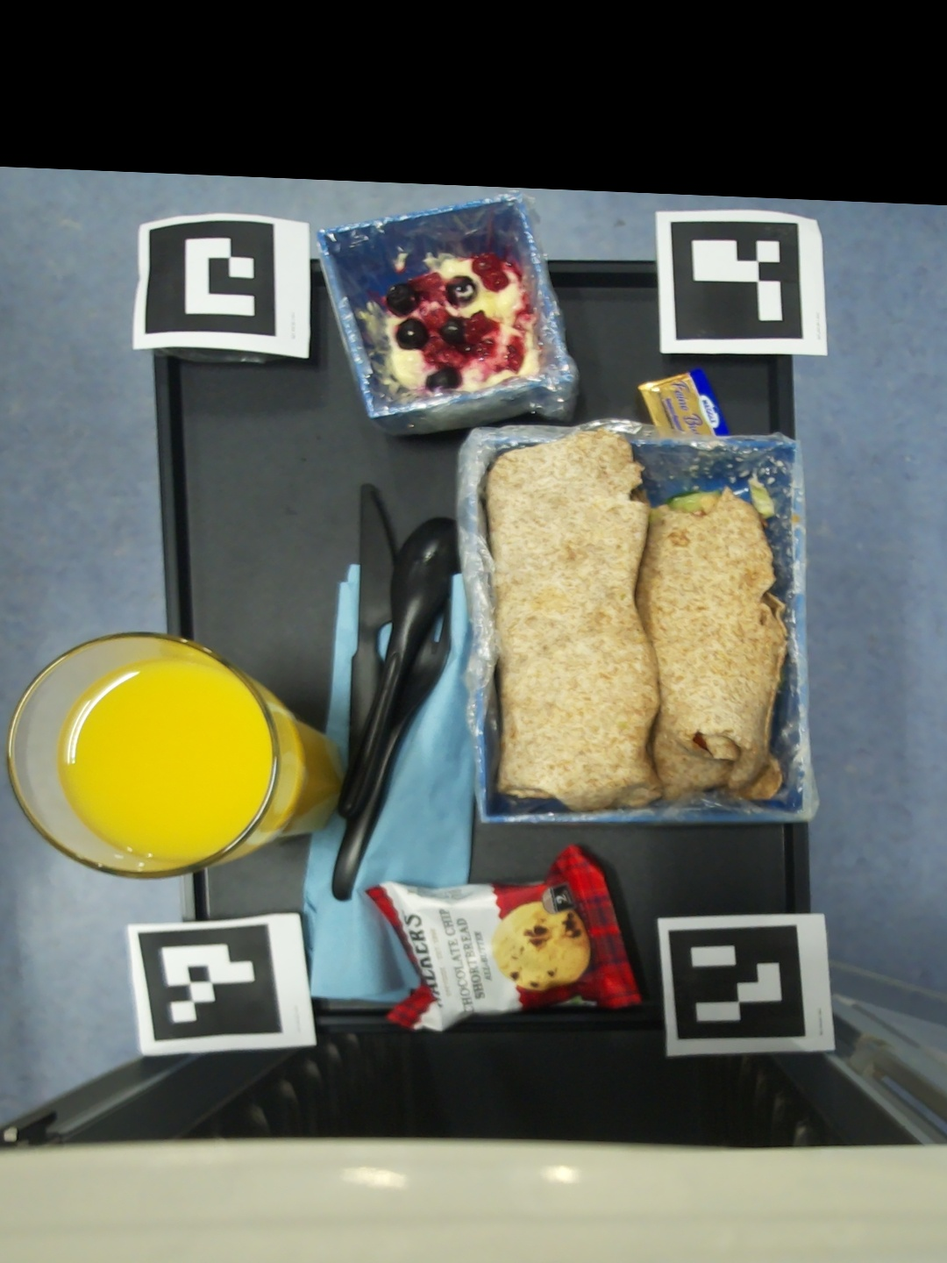butter: (638, 368, 731, 435)
cookie: (366, 845, 642, 1032)
orange_juice_bottle: (4, 632, 342, 880)
vanilla_pudding_with_fruits: (381, 252, 540, 392), (394, 253, 408, 274)
wrap_half_1: (486, 431, 661, 811)
wrap_half_2: (635, 474, 788, 800)
